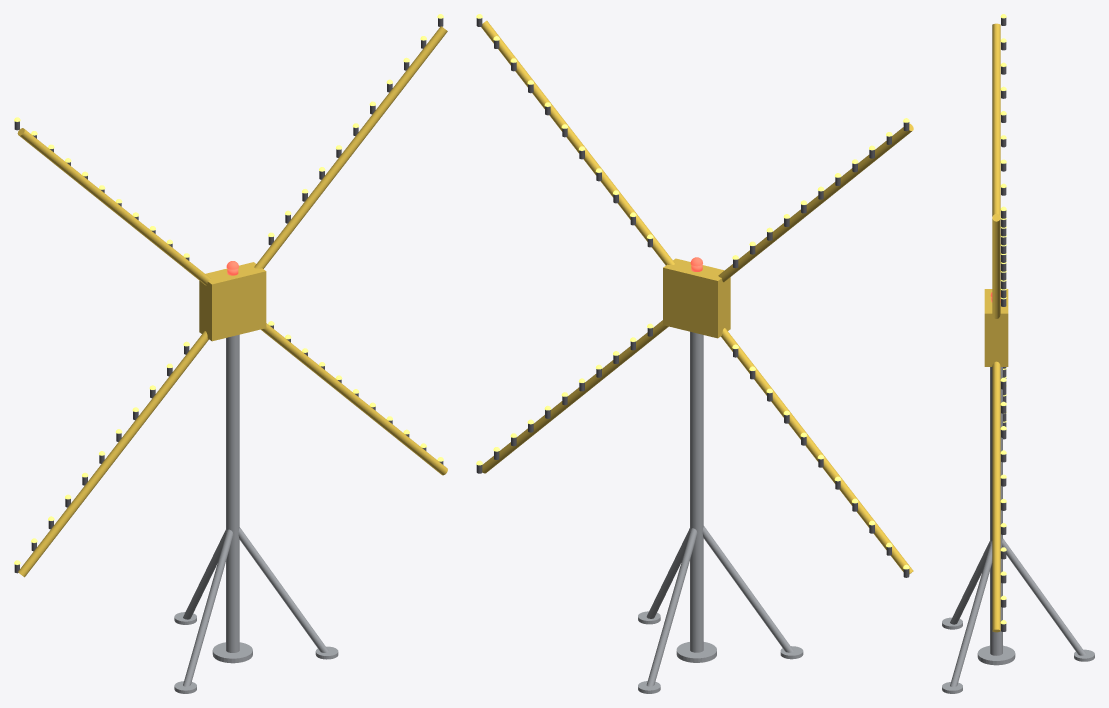
Rendered from X_LIGHTED_TRAILER_LOD00.gltf.
3 renders of one model, left to right at view 1: azimuth 30°, elevation 25°; view 2: azimuth 150°, elevation 25°; view 3: azimuth 270°, elevation 25°, orthographic. The views are drawn at different scales.
Parts seen in each view (by area): view 1: HUB_BRACKET, MAST, ARM_0, ARM_3, ARM_1, ARM_2, LEG_1, LEG_2, LEG_0; view 2: HUB_BRACKET, MAST, ARM_0, ARM_3, ARM_1, ARM_2, LEG_0, LEG_1, LEG_2; view 3: ARM_2, ARM_1, HUB_BRACKET, MAST, LEG_2, LEG_0, ARM_0, LEG_1, BASE_PLATE.
Part boxes in pixels (box(x1,y1,x2,y2)): HUB_BRACKET: box(199, 262, 266, 341); MAST: box(226, 334, 239, 652); ARM_0: box(254, 26, 447, 268); ARM_3: box(18, 331, 208, 577); ARM_1: box(17, 128, 211, 285); ARM_2: box(261, 323, 447, 475); LEG_1: box(183, 529, 233, 686); LEG_2: box(238, 527, 328, 652); LEG_0: box(183, 530, 225, 619); HUB_BRACKET: box(663, 258, 730, 338); MAST: box(690, 331, 703, 652); ARM_0: box(481, 20, 675, 265); ARM_3: box(721, 328, 913, 574); ARM_1: box(718, 123, 913, 282); ARM_2: box(482, 320, 668, 473); LEG_0: box(646, 528, 697, 686); LEG_1: box(702, 526, 793, 652); LEG_2: box(646, 528, 689, 618); ARM_2: box(992, 361, 1000, 632); ARM_1: box(992, 23, 1000, 216); HUB_BRACKET: box(984, 289, 1008, 366); MAST: box(990, 367, 1002, 655); LEG_2: box(950, 541, 992, 687); LEG_0: box(1002, 538, 1086, 655); ARM_0: box(992, 214, 1000, 318); LEG_1: box(950, 541, 989, 624); BASE_PLATE: box(977, 645, 1015, 665).
Size of the model in its own units: 5.91 by 7.74 by 1.96.
